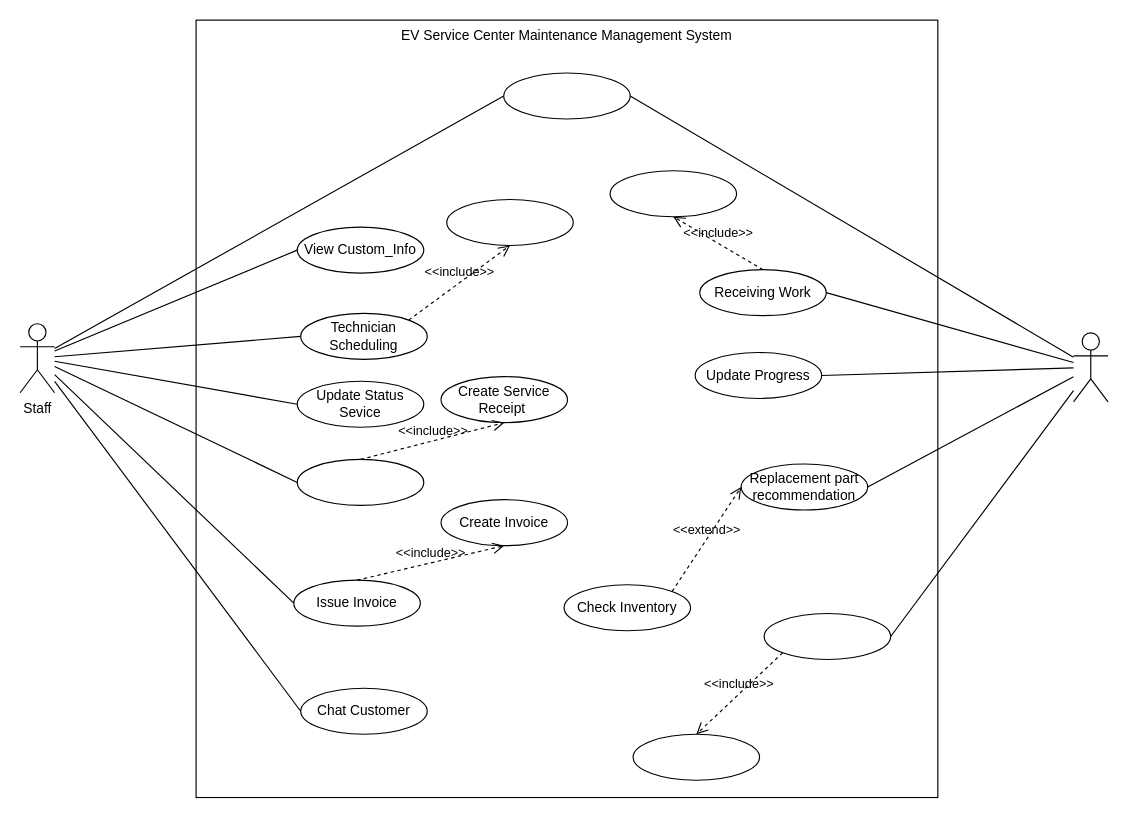
Image size: 1143x818. Some labels were removed from this diagram. Each missing label, with the centre of its shape:
Complete Service: point (827, 636)
Login: point (566, 95)
Receiving Booking: point (360, 481)
Send Technical Report: point (696, 756)
Technician: point (1090, 367)
View Technician List: point (509, 222)
View Work Schedule: point (673, 193)
